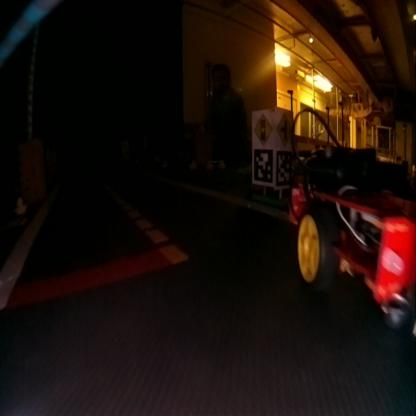Duckie: (15, 197, 26, 214)
Duckiebot: (290, 145, 413, 326)
Intersection sign: (276, 112, 291, 146)
QR code: (253, 147, 272, 184), (276, 149, 291, 186)
Signal sign: (254, 113, 272, 144)
